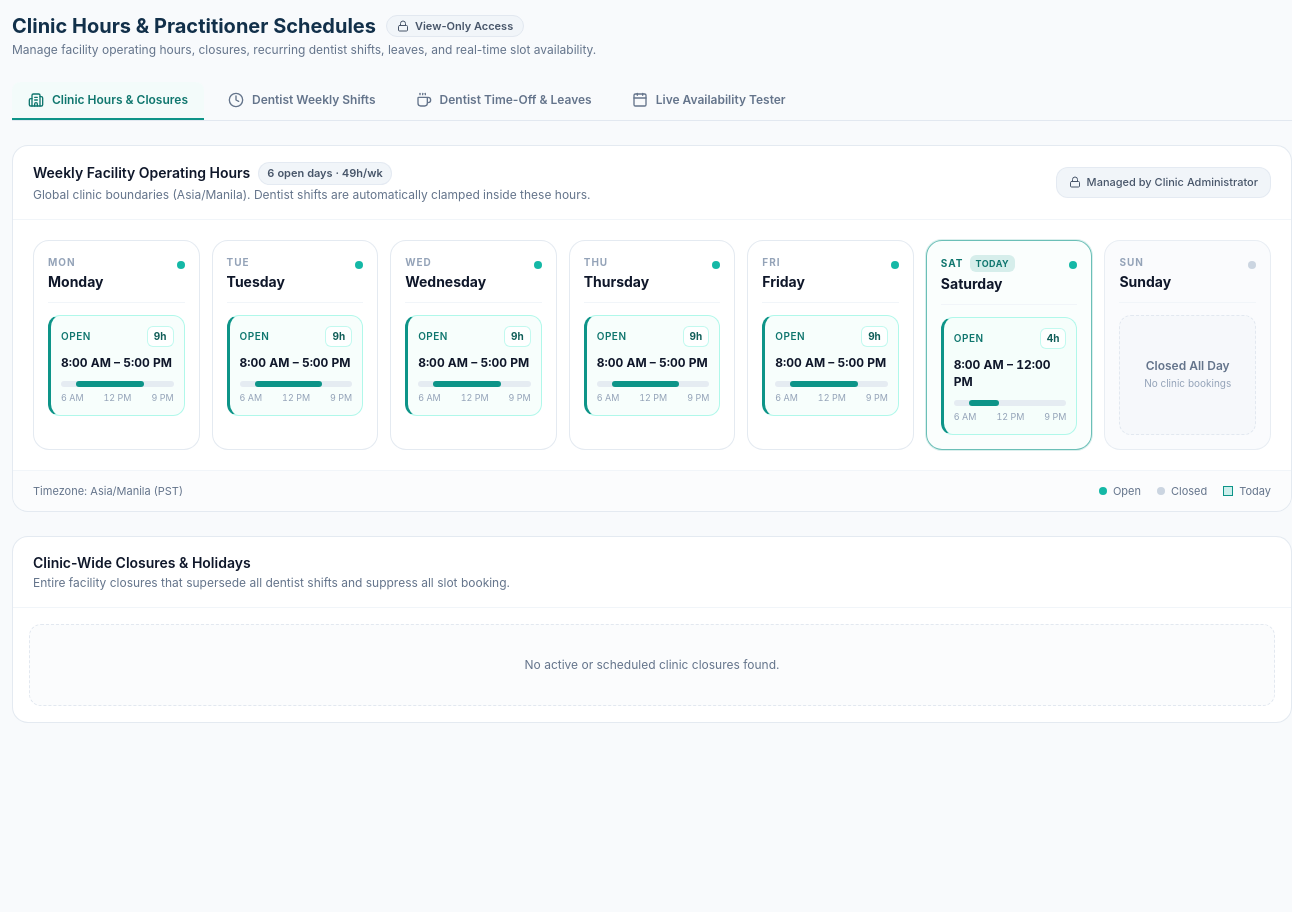
Scenario: AdminSchedulePage Component › renders view-only clinic hours and hides admin write controls for Receptionists without settings.manage
Expected: the heading "Weekly Facility Operating Hours" is shown, x1=33 y1=163 x2=250 y2=183
Expected: the text "View-Only Access" is shown, x1=386 y1=15 x2=524 y2=37
Switch to Dentist Weekly Shifts tab — write buttons remain hidden for Receptionist
Click the tab "Dentist Weekly Shifts". click: (302, 101)
box: x1=212 y1=82 x2=392 y2=120
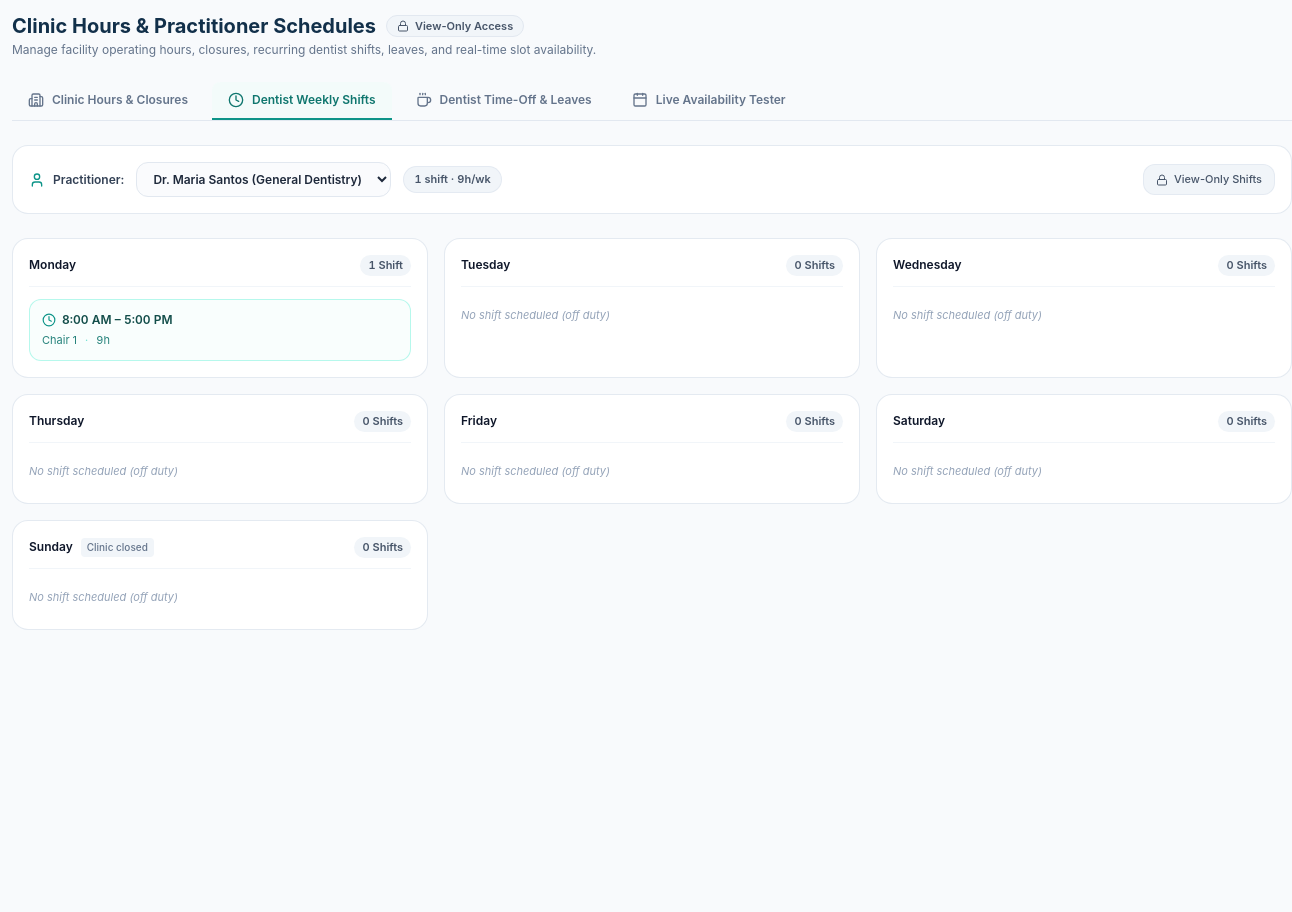
Expected: the text "View-Only Shifts" is shown, x1=1174 y1=171 x2=1262 y2=188
